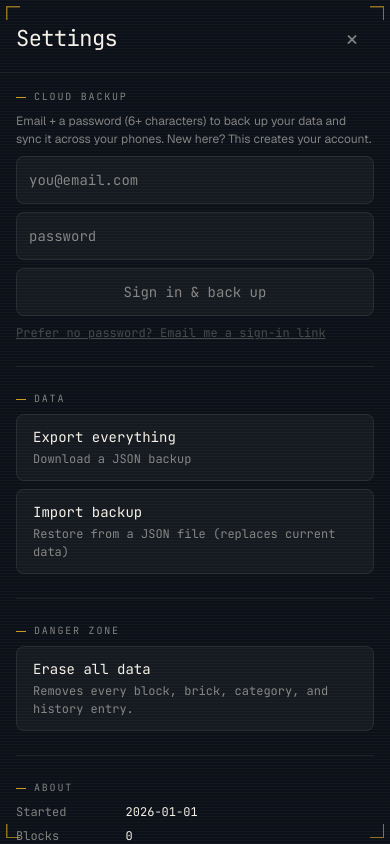
Test: SettingsSheet › Reset is two-tap: first tap reveals confirm, Cancel hides it
This screenshot has width=390, height=844.
# First tap — reveals confirm
Click the button with test id "settings-reset" at coordinates (195, 688), box [16,646,374,731]
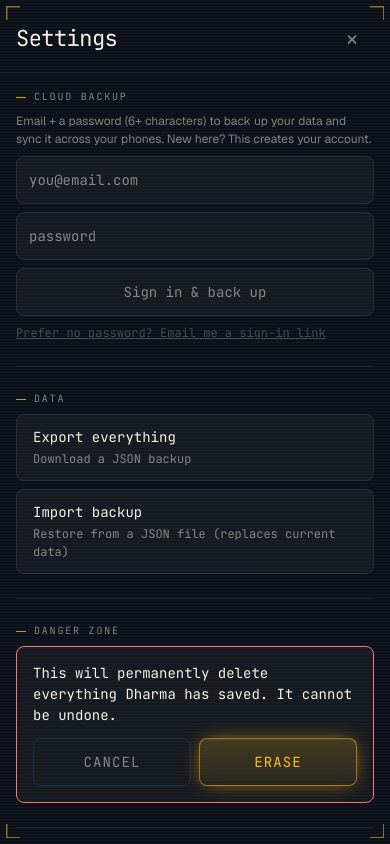
Result: the dialog with test id "settings-reset-confirm" is shown at [16,646,374,803]
# Cancel — hides confirm without resetting
Click the button with test id "settings-reset-cancel" at coordinates (112, 762), box [33,738,191,786]
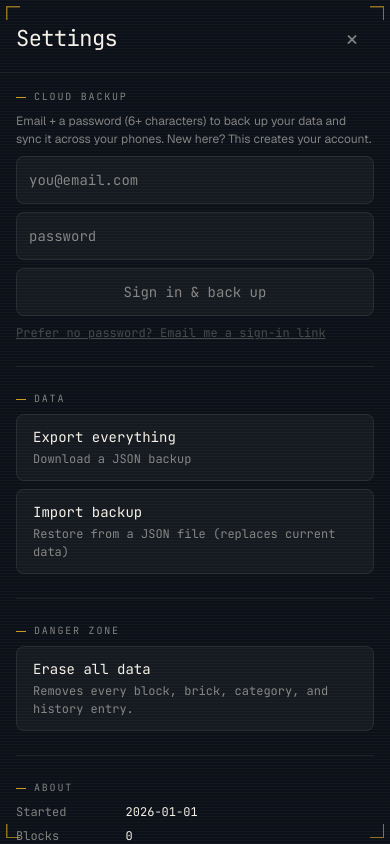
Result: the dialog with test id "settings-reset-confirm" is gone
